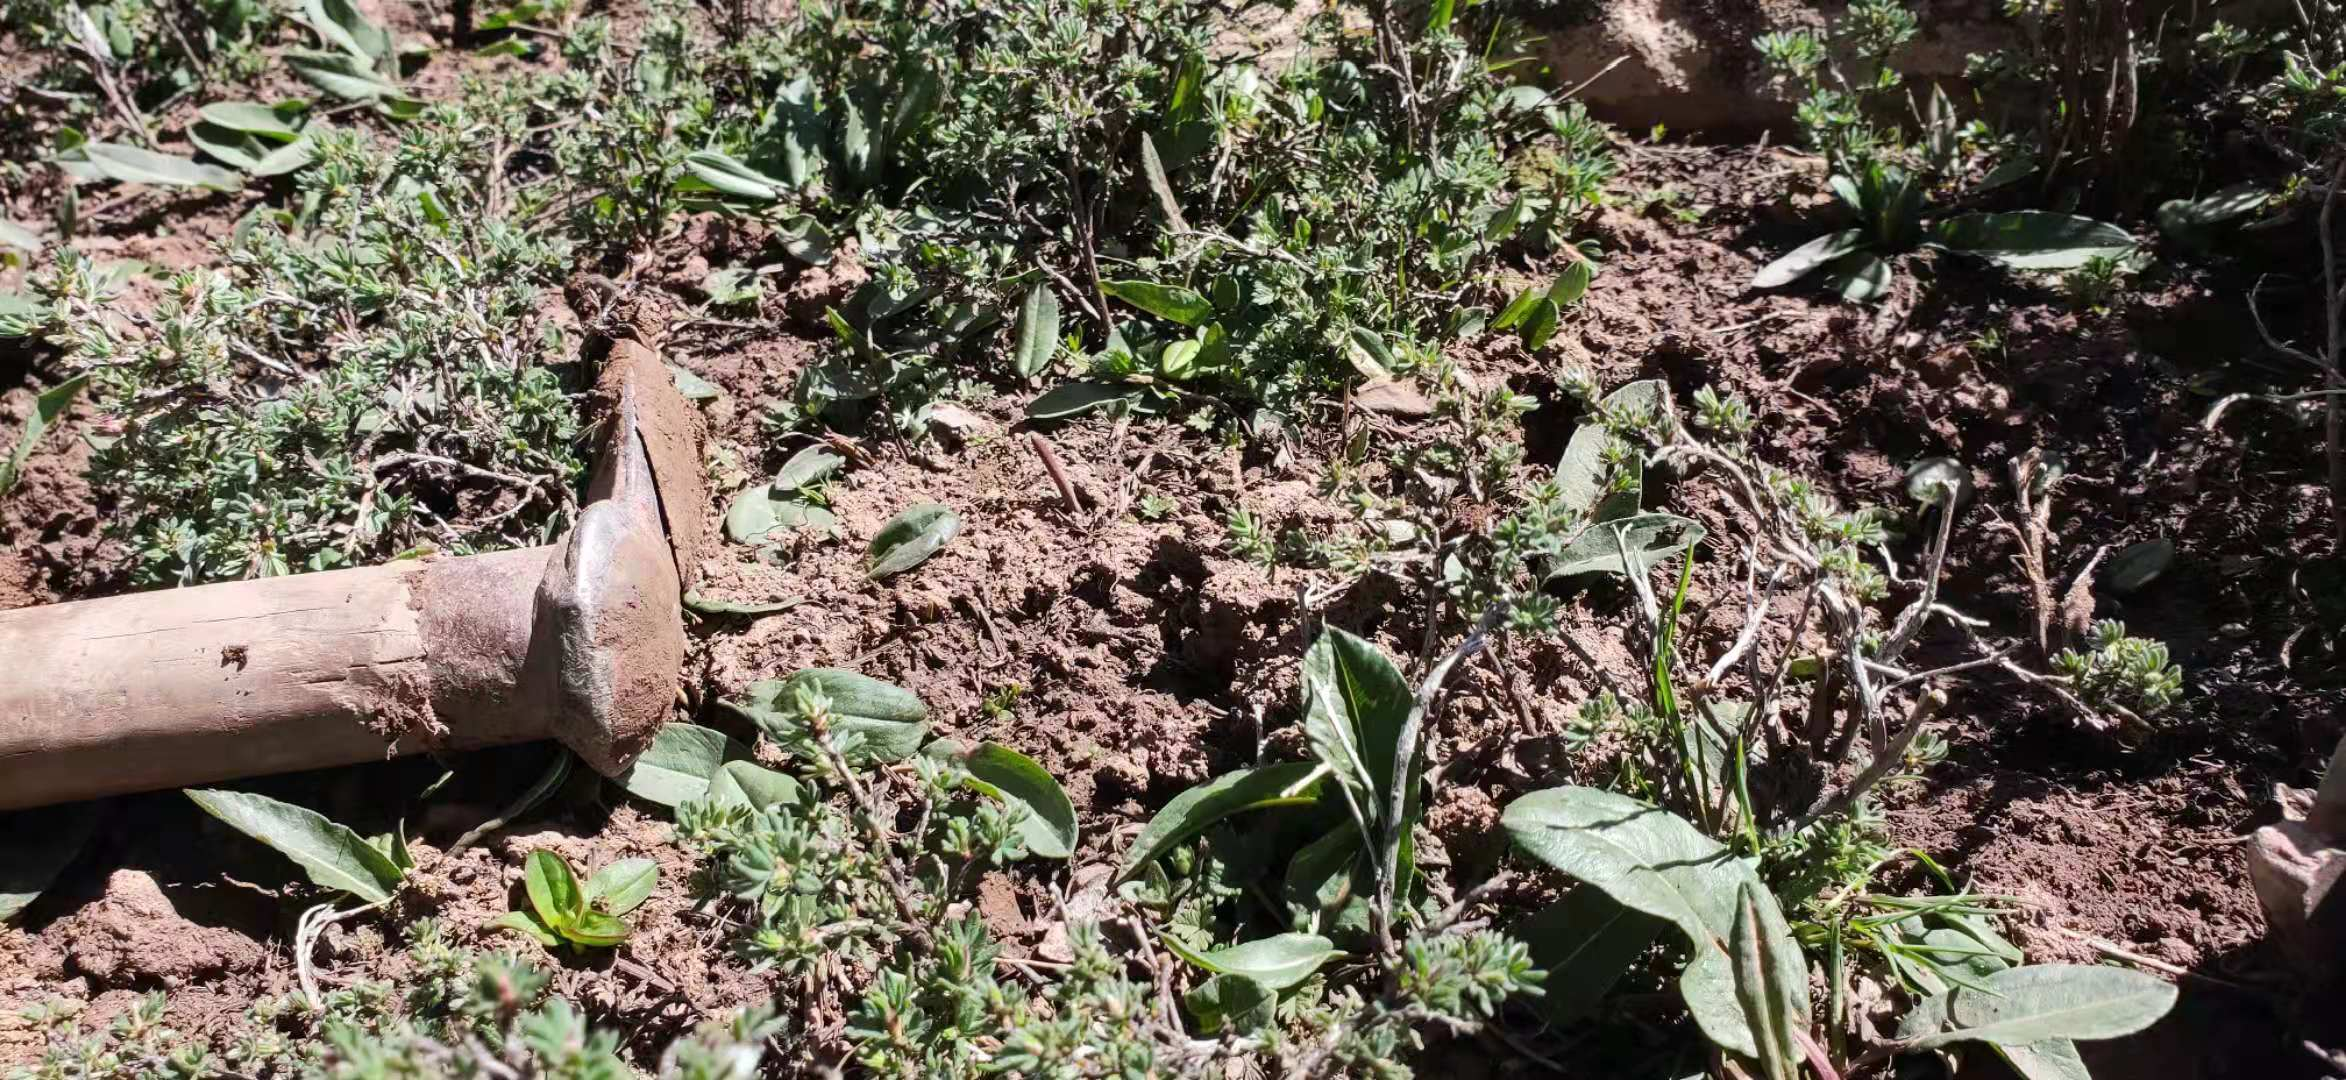cpf: (1026, 434, 1088, 521)
